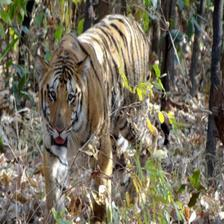tiger: (37, 13, 159, 205)
